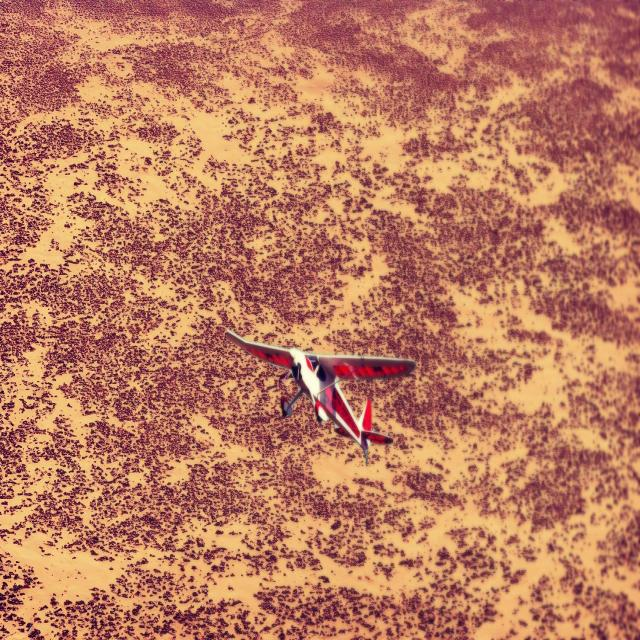airplane: (224, 326, 416, 466)
